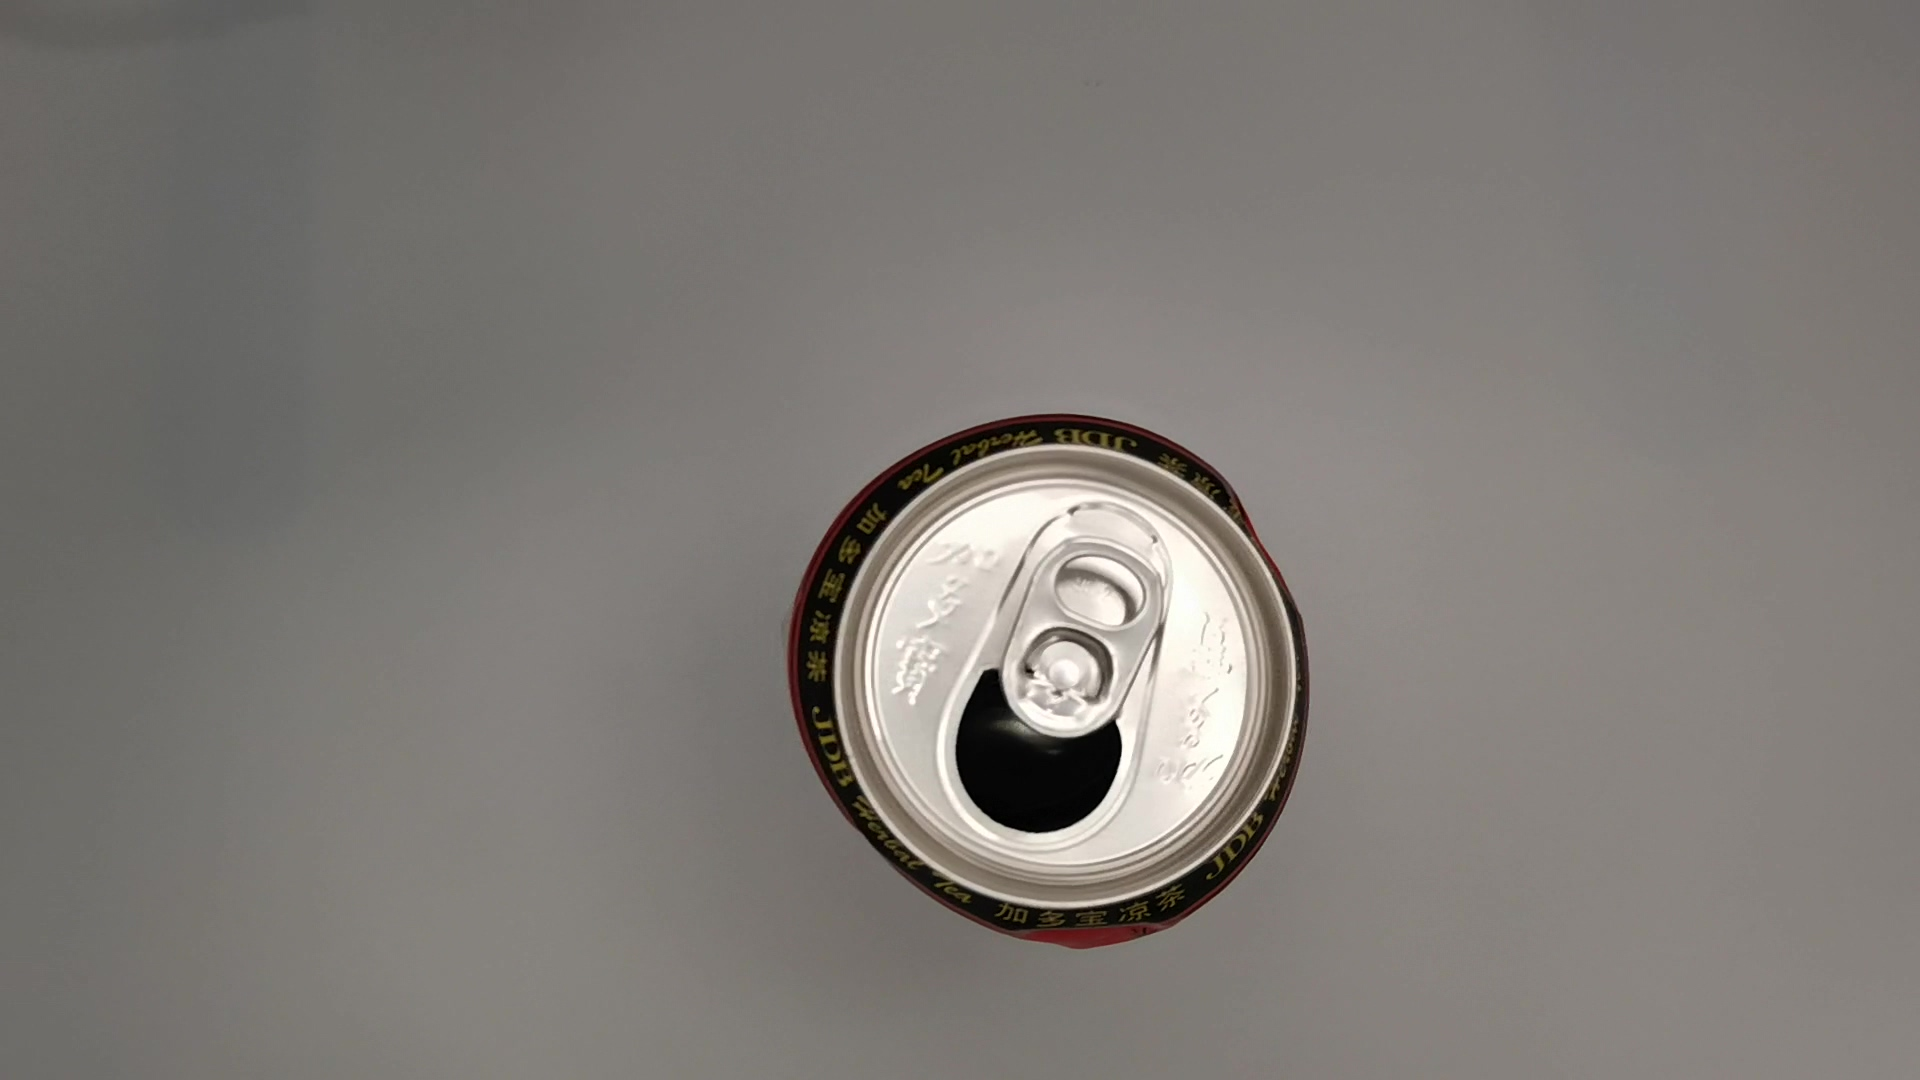can: (774, 404, 1321, 952)
